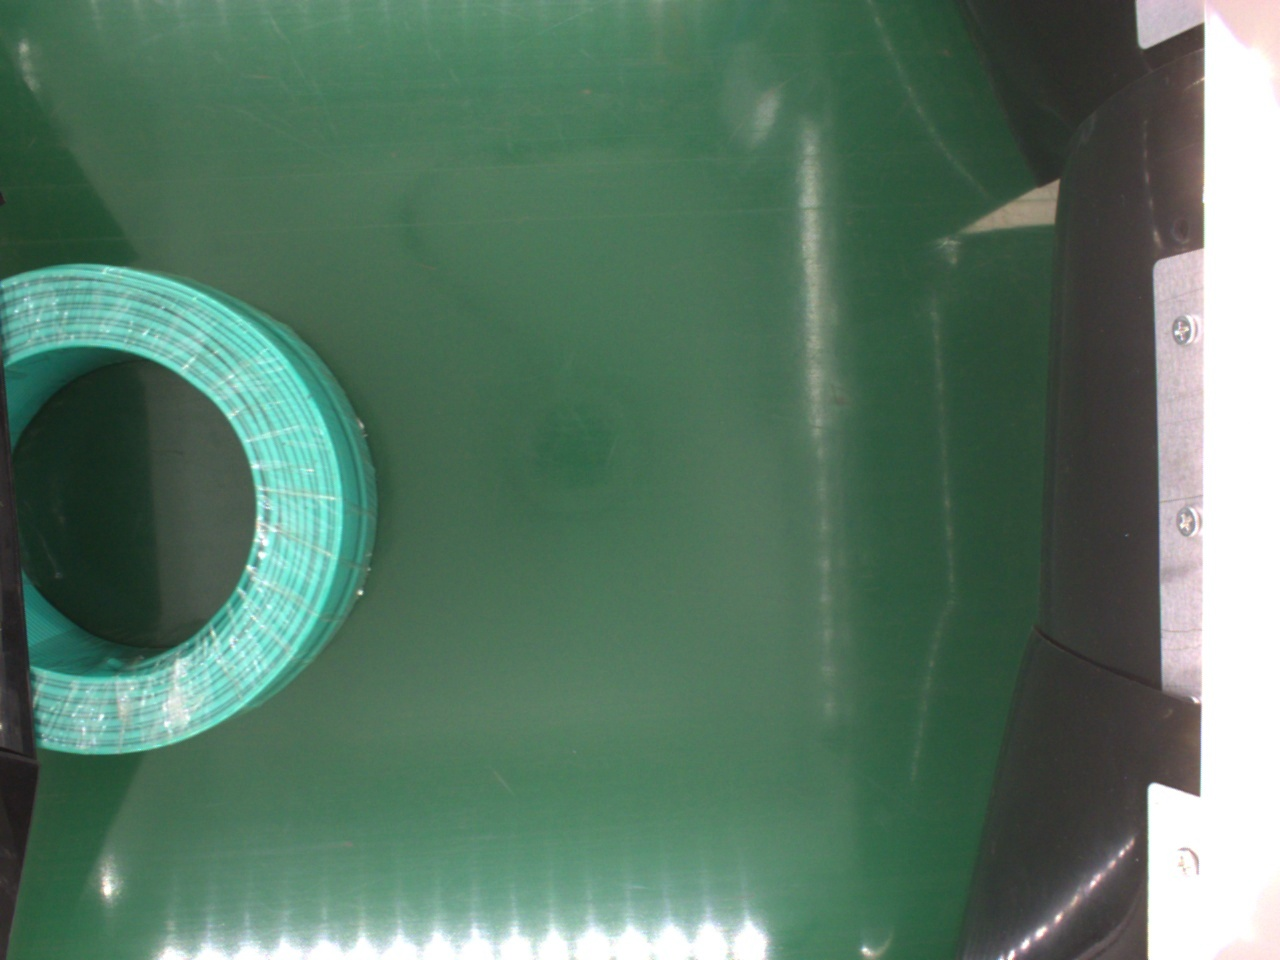green: (0, 260, 379, 759)
